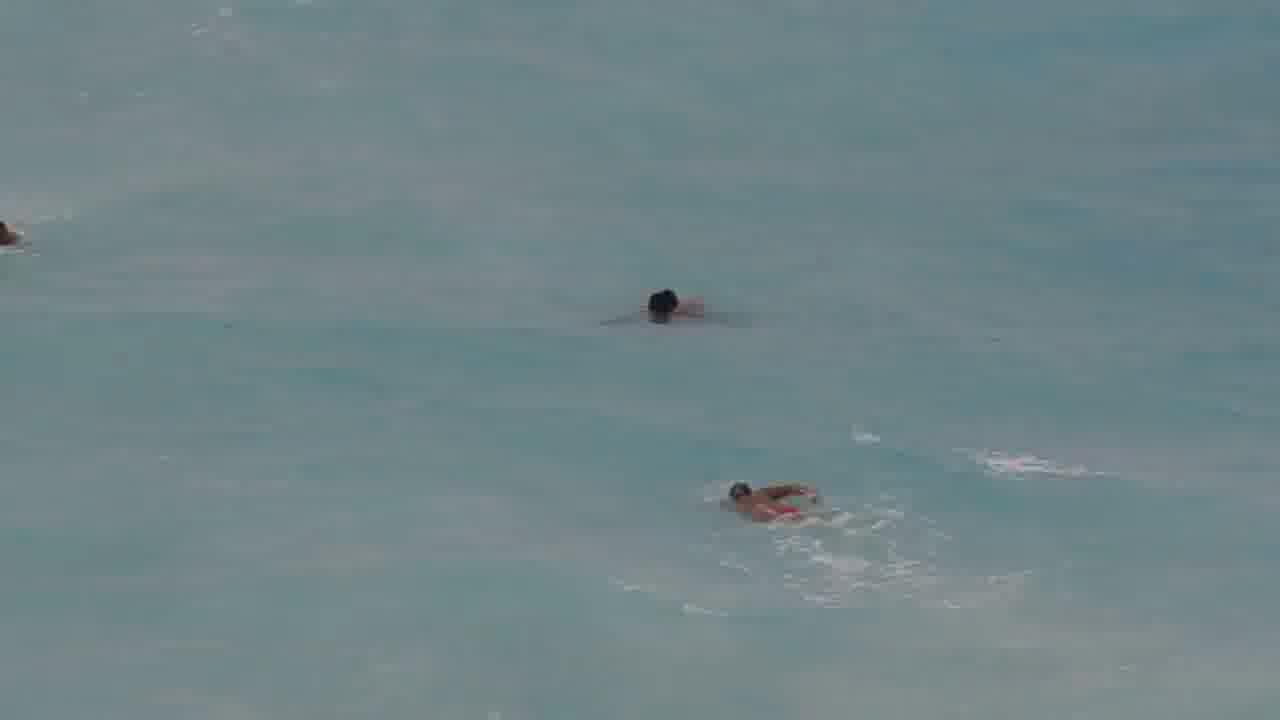human: (714, 473, 800, 519), (630, 285, 707, 333), (7, 199, 41, 262)
